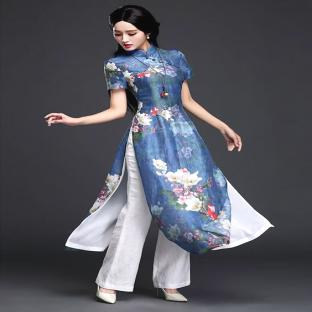Human: (45, 5, 273, 302)
